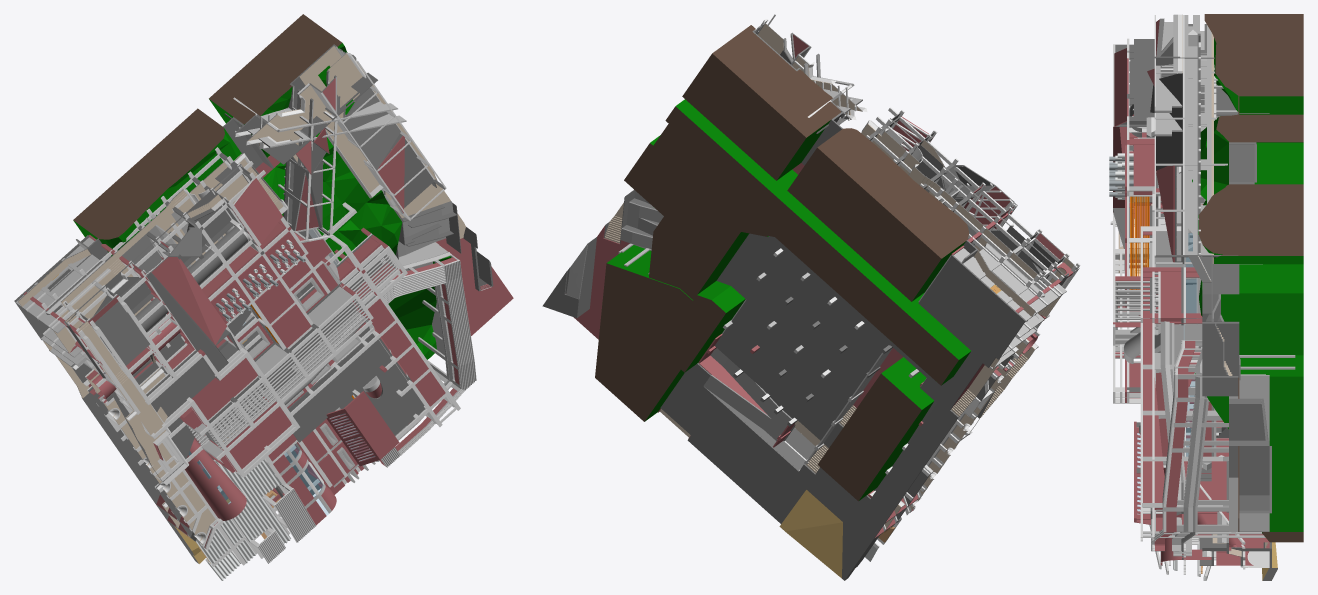
File: artist-residence.glb
The picture shows the model from 3 angles, left to right: view 1: azimuth 30°, elevation 25°; view 2: azimuth 150°, elevation 25°; view 3: azimuth 270°, elevation 25°; orthographic projection. The views are drawn at different scales.
Parts seen in each view (by area): view 1: Footpath, Basement floor, Railing, 9" concrete, Main ent, =>[0:1:1:8], Fire Protection 200, ramp, Beam 6", =>[0:1:1:1251]; view 2: Footpath, Basement floor, =>[0:1:1:8], Railing, Main ent, 9" concrete, ramp, 1510x2110mm; view 3: Footpath, 9" concrete, =>[0:1:1:8], Basement floor, Railing, Fire Protection 512, ramp, Retaining, Main ent, Fire Protection 200, Beam 6", =>[0:1:1:1251].
Boxes of the visible parts, bbox=[...] form: Footpath: bbox=[23, 14, 513, 548]; Basement floor: bbox=[14, 44, 493, 563]; Railing: bbox=[26, 52, 491, 566]; 9" concrete: bbox=[16, 46, 476, 513]; Main ent: bbox=[18, 46, 465, 544]; =>[0:1:1:8]: bbox=[73, 43, 451, 359]; Fire Protection 200: bbox=[196, 239, 299, 580]; ramp: bbox=[122, 201, 454, 418]; Beam 6": bbox=[215, 229, 338, 320]; =>[0:1:1:1251]: bbox=[189, 416, 374, 514]; Footpath: bbox=[573, 25, 1073, 537]; Basement floor: bbox=[542, 22, 1076, 580]; =>[0:1:1:8]: bbox=[607, 99, 970, 500]; Railing: bbox=[735, 14, 1080, 549]; Main ent: bbox=[604, 23, 1073, 528]; 9" concrete: bbox=[618, 24, 1066, 464]; ramp: bbox=[566, 184, 980, 456]; 1510x2110mm: bbox=[779, 284, 1001, 578]; Footpath: bbox=[1113, 14, 1303, 565]; 9" concrete: bbox=[1115, 15, 1295, 562]; =>[0:1:1:8]: bbox=[1192, 38, 1303, 532]; Basement floor: bbox=[1113, 33, 1277, 580]; Railing: bbox=[1110, 14, 1269, 576]; Fire Protection 512: bbox=[1130, 196, 1164, 476]; ramp: bbox=[1154, 182, 1268, 542]; Retaining: bbox=[1154, 56, 1269, 551]; Main ent: bbox=[1118, 15, 1268, 556]; Fire Protection 200: bbox=[1115, 153, 1210, 580]; Beam 6": bbox=[1109, 156, 1197, 456]; =>[0:1:1:1251]: bbox=[1138, 233, 1195, 510].
Size of the model in its own units: 93.42 by 92.83 by 25.48.
